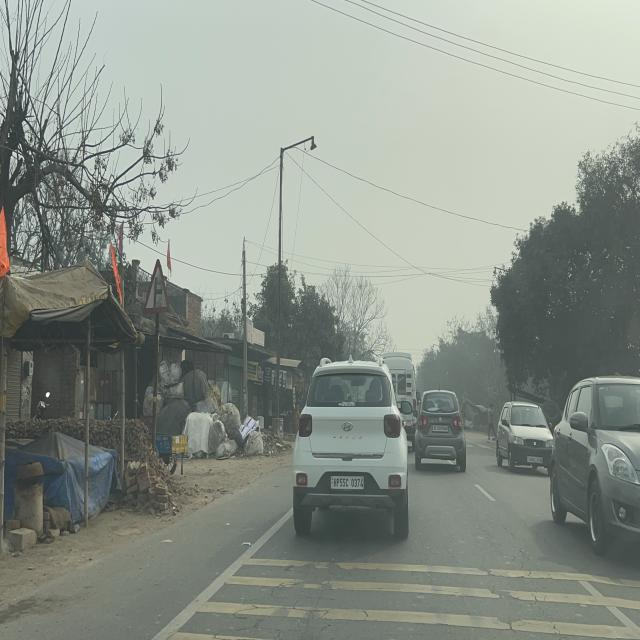SIDE_ROAD_RIGHT: (141, 260, 172, 312)
